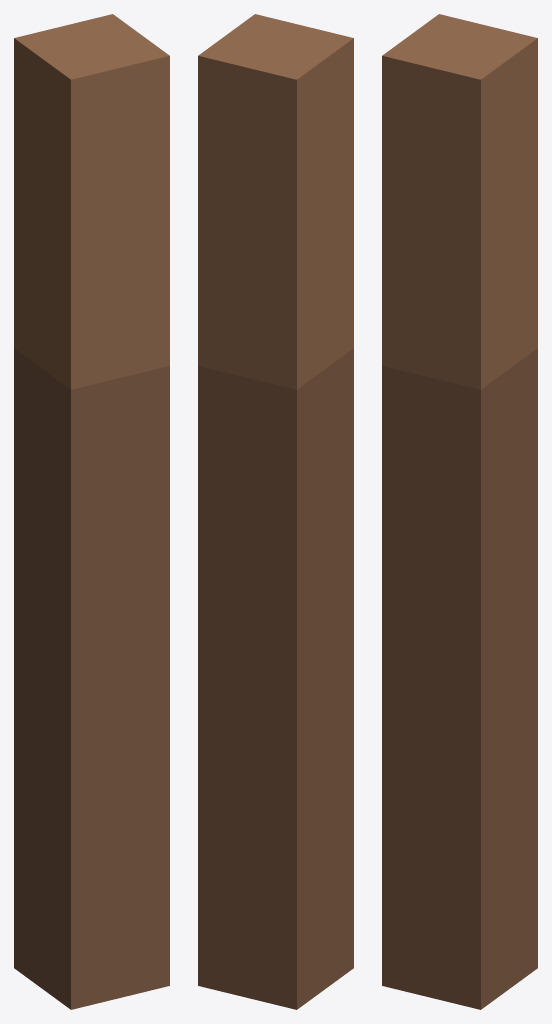
The model's file is ConstructionMaterials-88.obj.
3 renders of one model, left to right at view 1: azimuth 30°, elevation 25°; view 2: azimuth 150°, elevation 25°; view 3: azimuth 330°, elevation 25°, orthographic.
Bounding box in the file's own units: 0.1 × 0.9 × 0.1.
Materials: 1 (1 with a texture image).
